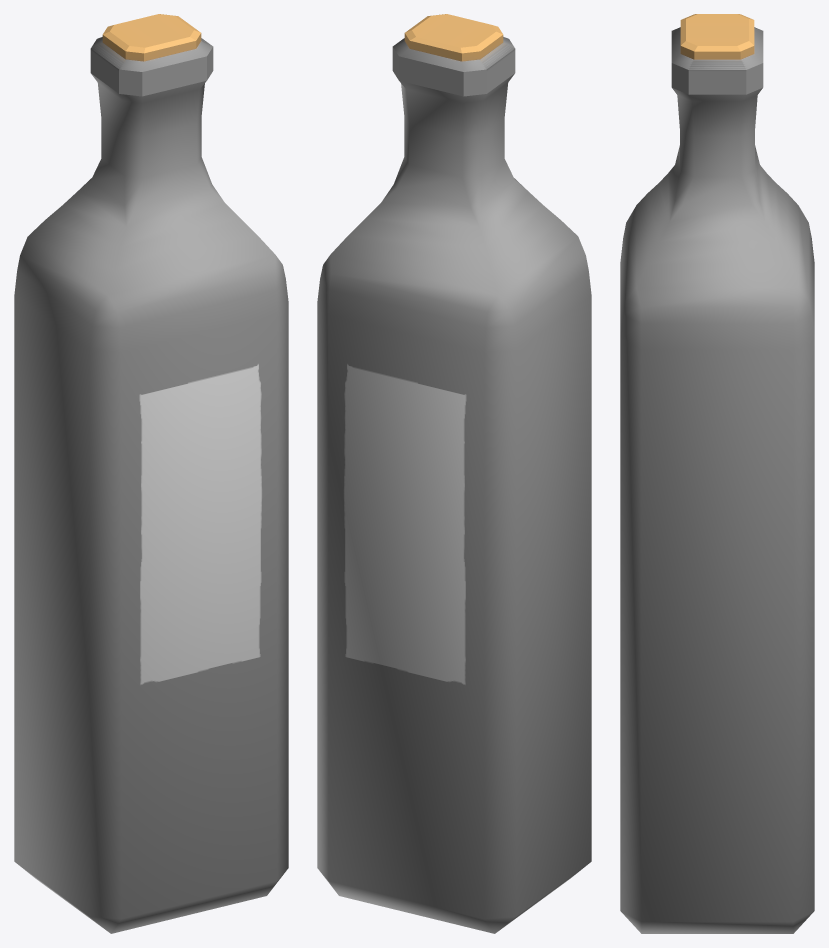
Rendered from vodka.fbx.
The picture shows the model from 3 angles, left to right: view 1: azimuth 30°, elevation 25°; view 2: azimuth 150°, elevation 25°; view 3: azimuth 270°, elevation 25°; orthographic projection.
Parts seen in each view (by area): view 1: vodka; view 2: vodka; view 3: vodka.
Part boxes in pixels (left/top/right/bottom): vodka: left=14, top=14, right=288, bottom=933; vodka: left=317, top=14, right=591, bottom=933; vodka: left=620, top=14, right=814, bottom=933.
Size of the model in its own units: 14.6 by 60.02 by 12.19.
